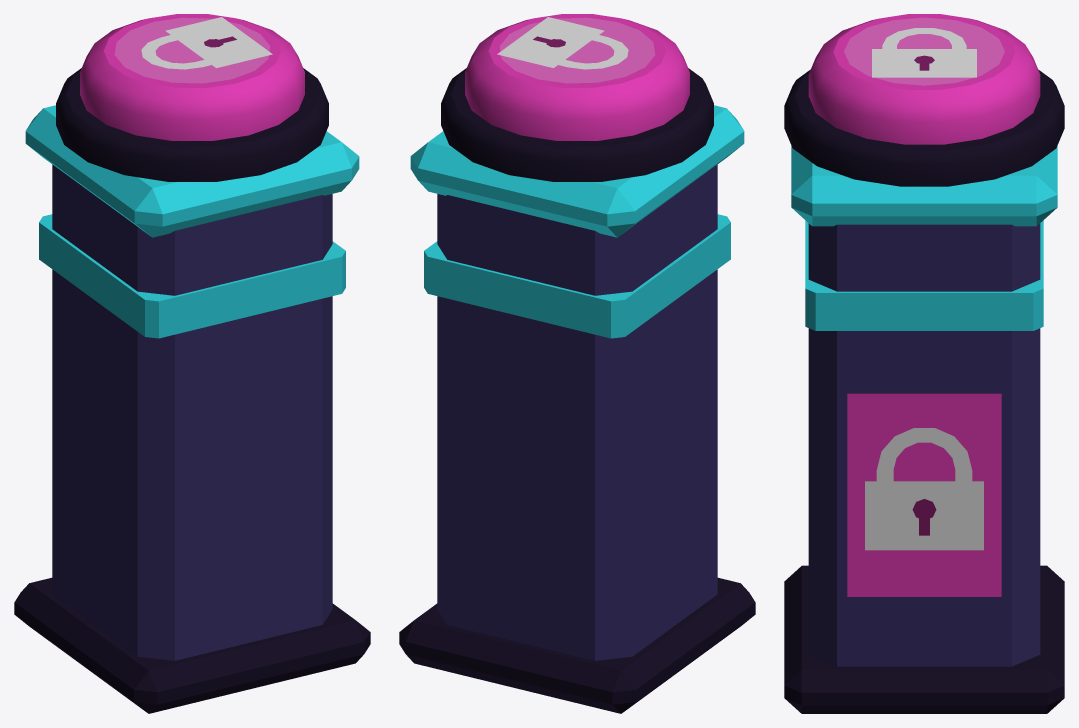
File: neon-lockbtn.glb
The picture shows the model from 3 angles, left to right: view 1: azimuth 30°, elevation 25°; view 2: azimuth 150°, elevation 25°; view 3: azimuth 270°, elevation 25°; orthographic projection. The views are drawn at different scales.
Parts seen in each view (by area): view 1: neon-lockbtn; view 2: neon-lockbtn; view 3: neon-lockbtn.
Part boxes in pixels (left/top/right/bottom): neon-lockbtn: left=14, top=14, right=370, bottom=713; neon-lockbtn: left=399, top=14, right=755, bottom=713; neon-lockbtn: left=784, top=14, right=1064, bottom=713.
Size of the model in its own units: 0.4 by 0.964 by 0.4.
